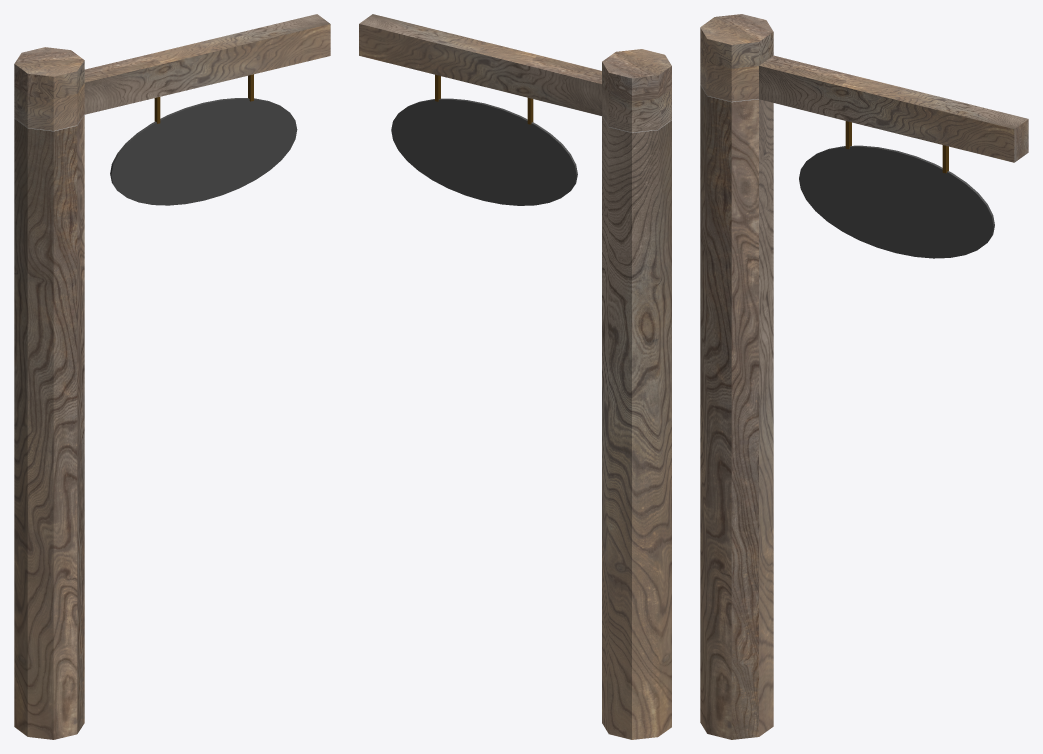
File: Uithangboordje.fbx
3 views of the same model, side by side, from view 1: azimuth 30°, elevation 25°; view 2: azimuth 150°, elevation 25°; view 3: azimuth 330°, elevation 25° (orthographic). The views are drawn at different scales.
Visible parts, largest first — view 1: Circle; view 2: Circle; view 3: Circle.
Part boxes in pixels (x1,y1,x2,y2): Circle: (14,14,330,739); Circle: (359,14,671,739); Circle: (700,14,1028,739).
Size of the model in its own units: 123 by 259 by 23.18.
1 material, 1 textured.
